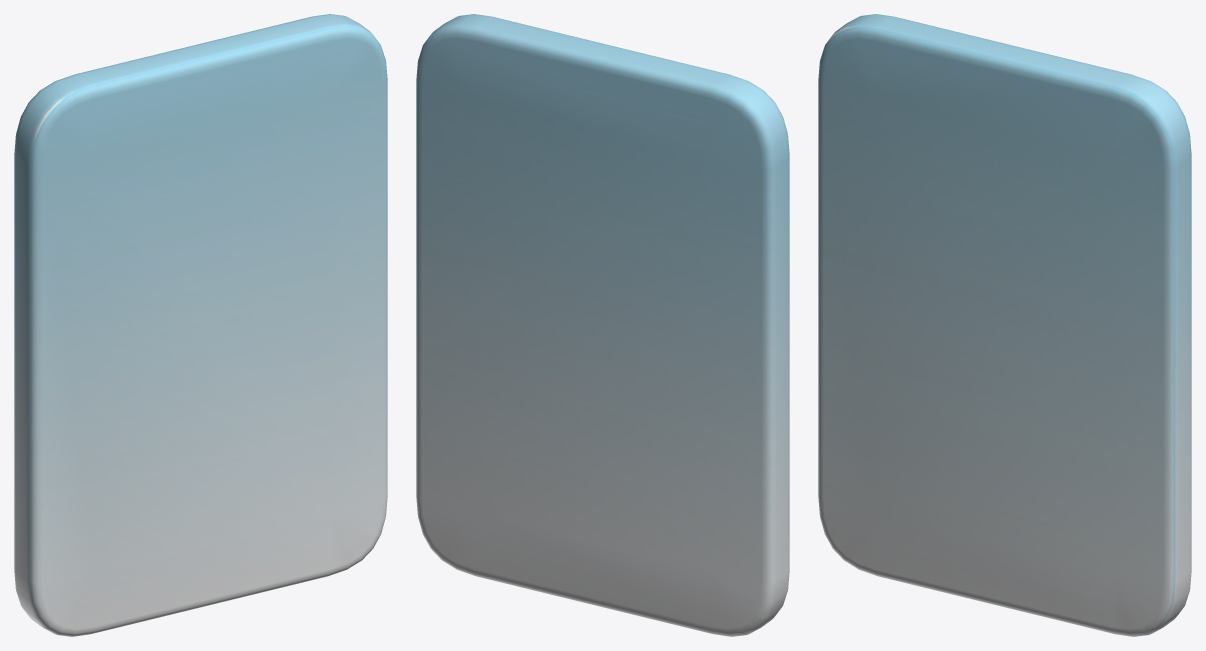
The model's file is card-blue.glb.
3 renders of one model, left to right at view 1: azimuth 30°, elevation 25°; view 2: azimuth 150°, elevation 25°; view 3: azimuth 330°, elevation 25°, orthographic.
Visible parts, largest first — view 1: Card; view 2: Card; view 3: Card.
Part boxes in pixels (x1,y1,x2,y2): Card: (14, 14, 387, 636); Card: (416, 14, 789, 636); Card: (818, 14, 1191, 636).
Bounding box in the file's own units: 11.63 × 17.02 × 1.28.
Materials: 1 (1 with a texture image).
